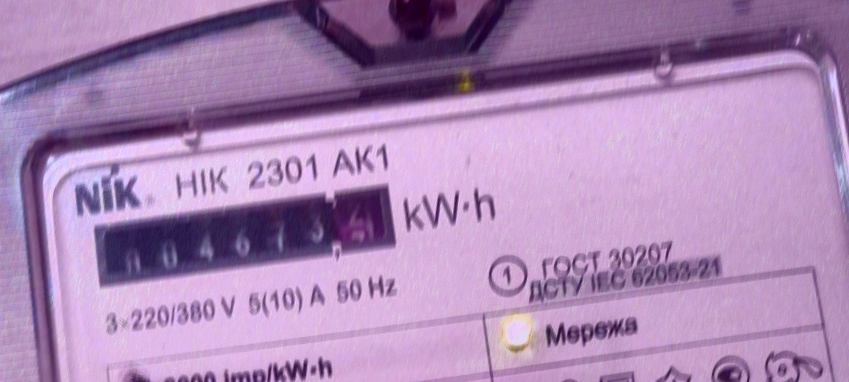0: (118, 244, 142, 276), (155, 237, 177, 270)
2: (340, 194, 365, 229)
3: (303, 209, 325, 245)
4: (192, 227, 215, 264)
6: (226, 222, 252, 259)
7: (264, 217, 291, 257)
screen: (84, 179, 401, 297)
